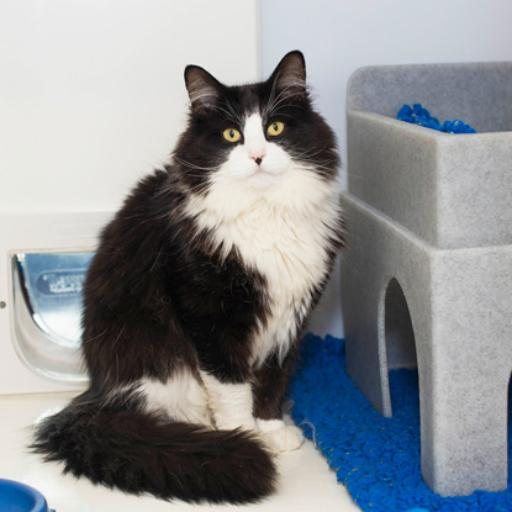cat_sitting: (32, 52, 344, 502)
